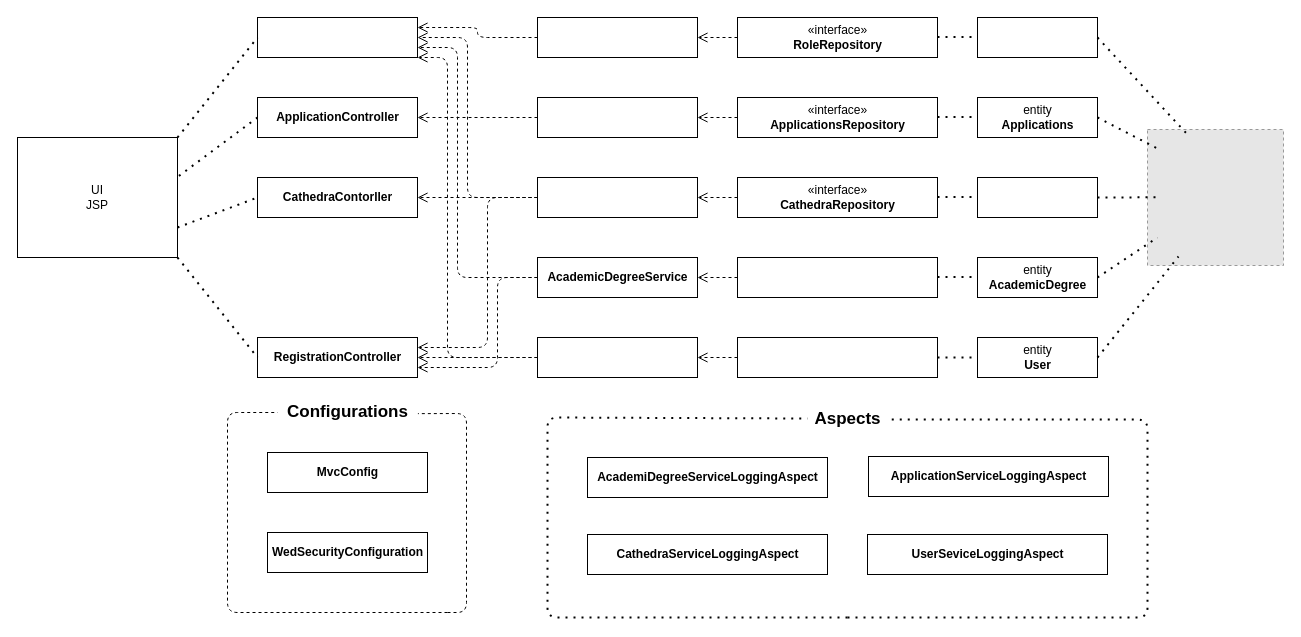
Some shapes in this 1301 by 637 pixel diagram are drawn without their labels. Grey dashed boxes stand in for pictures. Here are the shapes that lost their labels. From the top down, the centre of each, then its label:
At [337,37]: "UserController".
At [617,37]: "RoleService".
At [1037,37]: "entity Role".
At [617,117]: "ApplicationsService".
At [617,197]: "CathedraService".
At [1037,197]: "entity Cathedra".
At [837,277]: "«interface» AcademicDegreeRepository".
At [617,357]: "UserService".
At [837,357]: "«interface» UserRepository".
